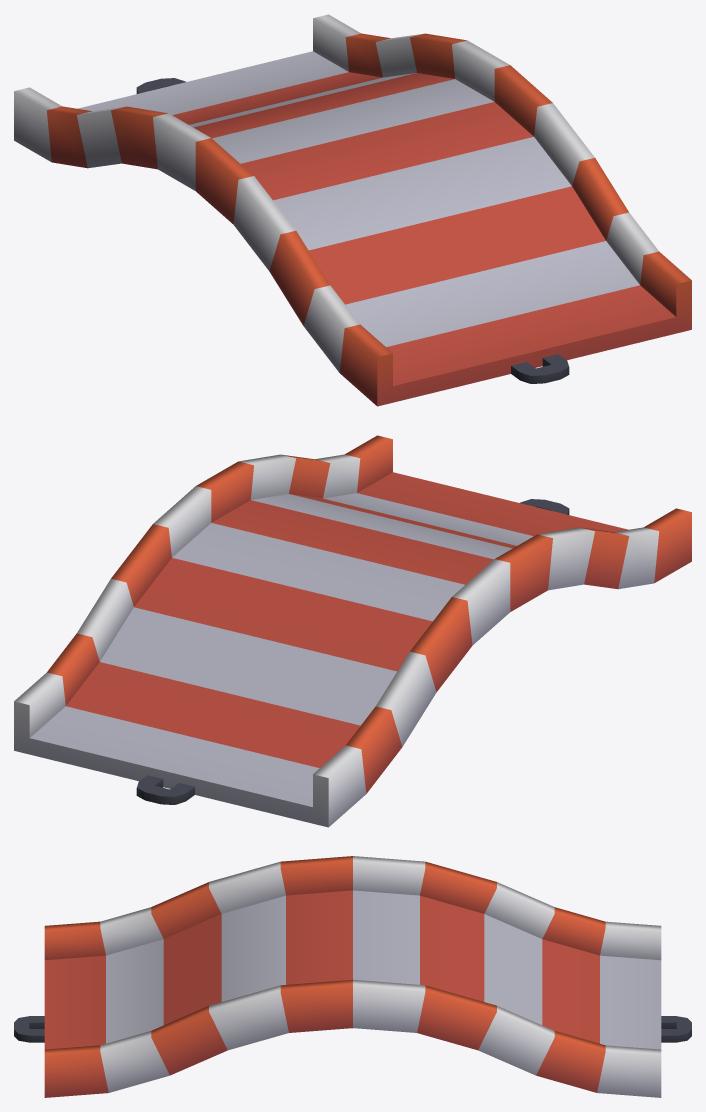
Rendered from track-striped-wide-straight-bump-up.glb.
3 views of the same model, one above another, from view 1: azimuth 30°, elevation 25°; view 2: azimuth 150°, elevation 25°; view 3: azimuth 270°, elevation 25° (orthographic). The views are drawn at different scales.
Parts seen in each view (by area): view 1: track-striped-wide-straight-bump-up; view 2: track-striped-wide-straight-bump-up; view 3: track-striped-wide-straight-bump-up.
Boxes of the visible parts, bbox=[...] form: track-striped-wide-straight-bump-up: bbox=[14, 14, 691, 406]; track-striped-wide-straight-bump-up: bbox=[14, 435, 691, 827]; track-striped-wide-straight-bump-up: bbox=[14, 856, 691, 1097].
Size of the model in its own units: 2 by 0.8 by 4.4.
